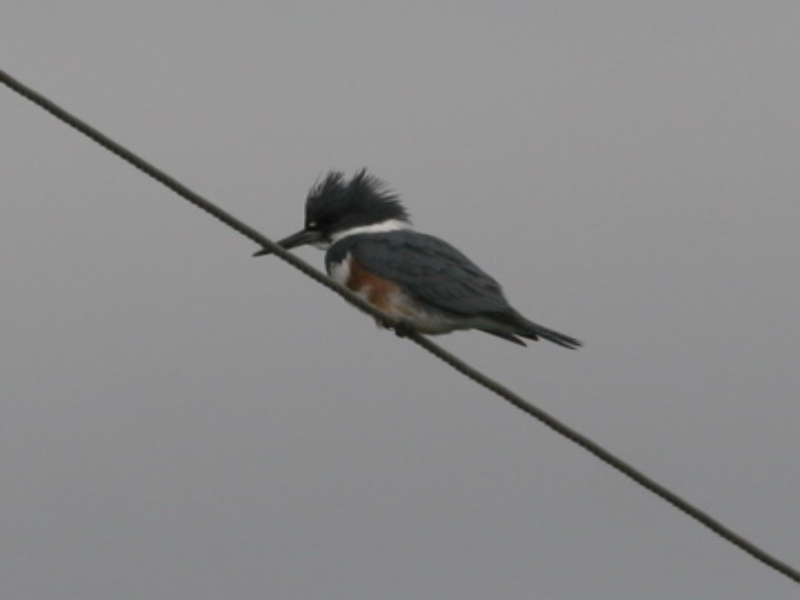kingfisher: (248, 166, 590, 364)
